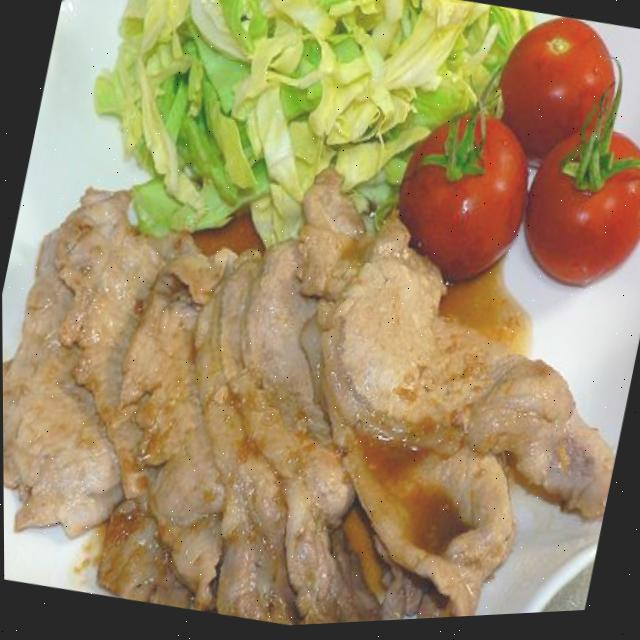猪肉菜式: (1, 82, 640, 640)
